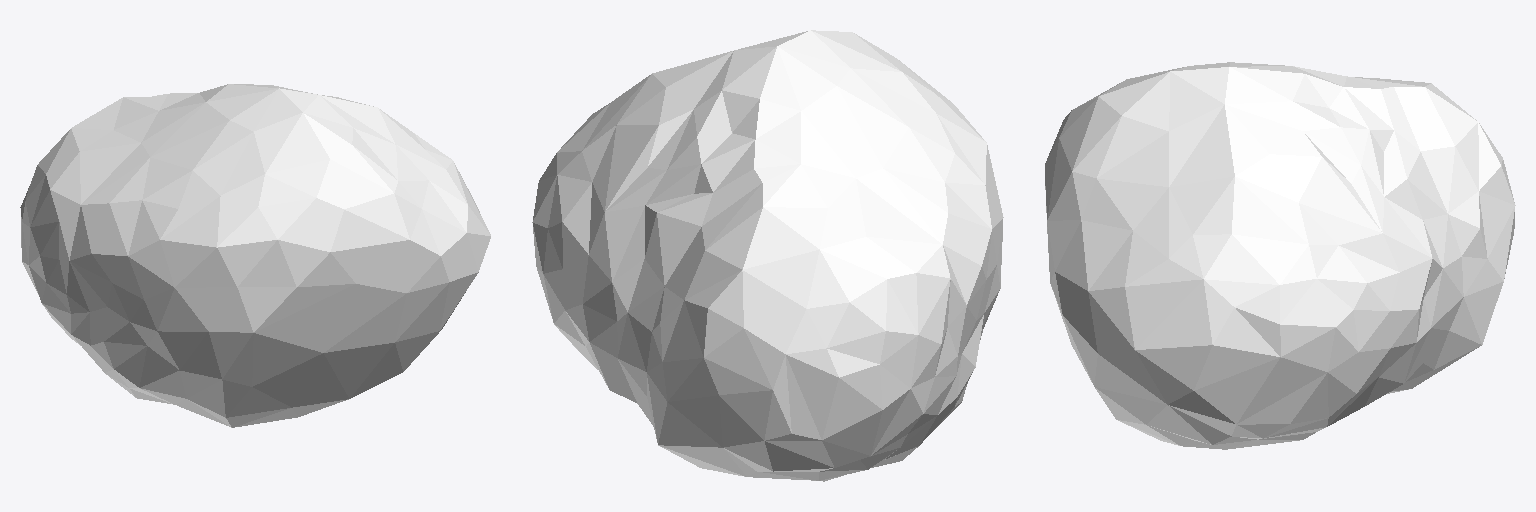
The robot description file, URDF, robot "stone":
<?xml version="1.0"?>
<robot name="stone">
  <link name="stone">
    <contact>
        <lateral_friction value="1"/>
    </contact>
    <inertial>
      <origin rpy="0 0 0" xyz="0 0 0"/>
      <mass value="25.0"/>
      <inertia ixx="0.15" ixy="0" ixz="0" iyy="0.15" iyz="0" izz="0.15"/>
    </inertial>
    <visual>
      <origin rpy="0 0 0" xyz="0 0 0"/>
      <geometry>
        <mesh filename="stone.obj" scale="0.5 0.5 0.5"/>
      </geometry>
      <material name="blockmat">
        <color rgba="1 1 1 1"/>
      </material>
    </visual>
    <collision>
      <origin rpy="0 0 0" xyz="0 0 0"/>
      <geometry>
        <mesh filename="stone.obj" scale="0.5 0.5 0.5"/>
      </geometry>
    </collision>
  </link>
</robot>

--- Facts derived from the render (not from the file) ---
The picture shows the robot from 3 angles, left to right: view 1: azimuth 30°, elevation 25°; view 2: azimuth 150°, elevation 25°; view 3: azimuth 270°, elevation 25°; orthographic projection.
Model stone with 1 links and 0 joints (none), rooted at stone, posed every joint at zero.
Visible links, largest first — view 1: stone; view 2: stone; view 3: stone.
Boxes of the visible links, x1,y1,x2,y2 form: stone: (20, 84, 490, 427); stone: (532, 30, 1003, 481); stone: (1045, 62, 1515, 449).
Size in the robot's own frame: 0.5106 by 0.4803 by 0.4206 metres.
Meshes: 1 distinct files referenced, 1 mesh visuals loaded (1 OBJ).
